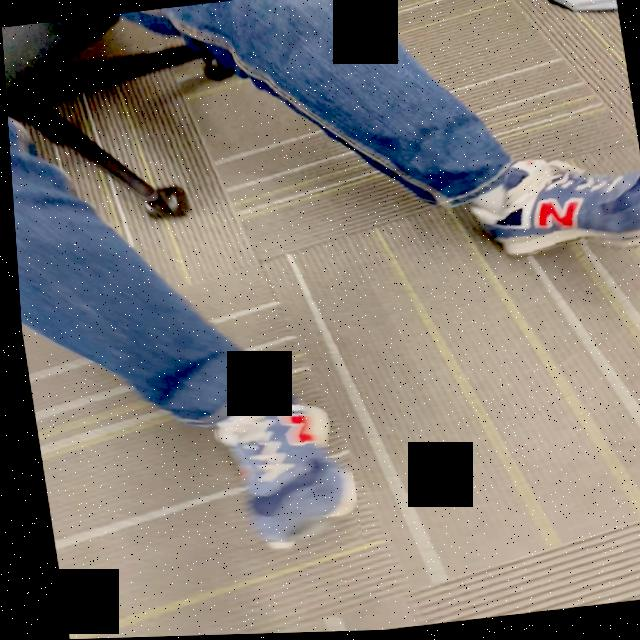shoe: (209, 380, 350, 555), (466, 162, 640, 259)
